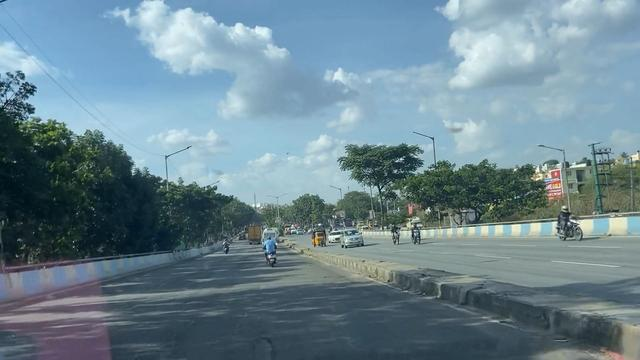LMV: (256, 234, 280, 270)
RoadDamages: (118, 314, 313, 360)
